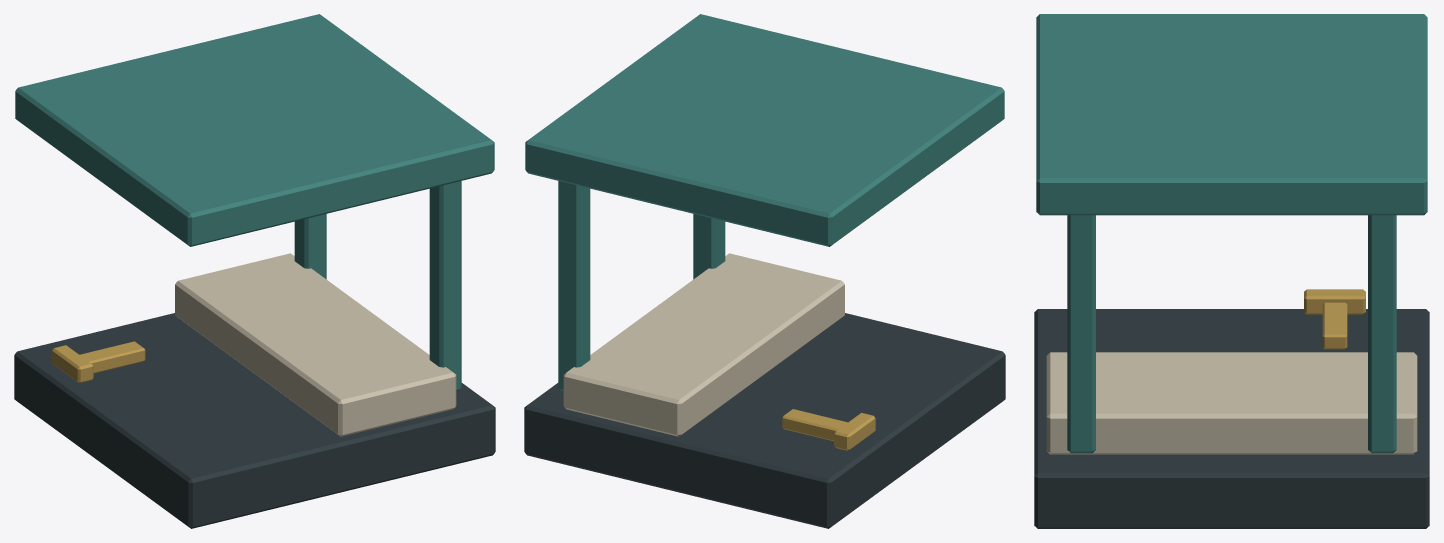
Rendered from station-lod0.035f183b8187.glb.
3 renders of one model, left to right at view 1: azimuth 30°, elevation 25°; view 2: azimuth 150°, elevation 25°; view 3: azimuth 270°, elevation 25°, orthographic. The views are drawn at different scales.
Parts seen in each view (by area): view 1: body; view 2: body; view 3: body.
Boxes of the visible parts, x1,y1,x2,y2 form: body: (14, 14, 495, 528); body: (524, 14, 1005, 528); body: (1034, 14, 1429, 528).
Size of the model in its own units: 1.92 by 1.88 by 1.92.
